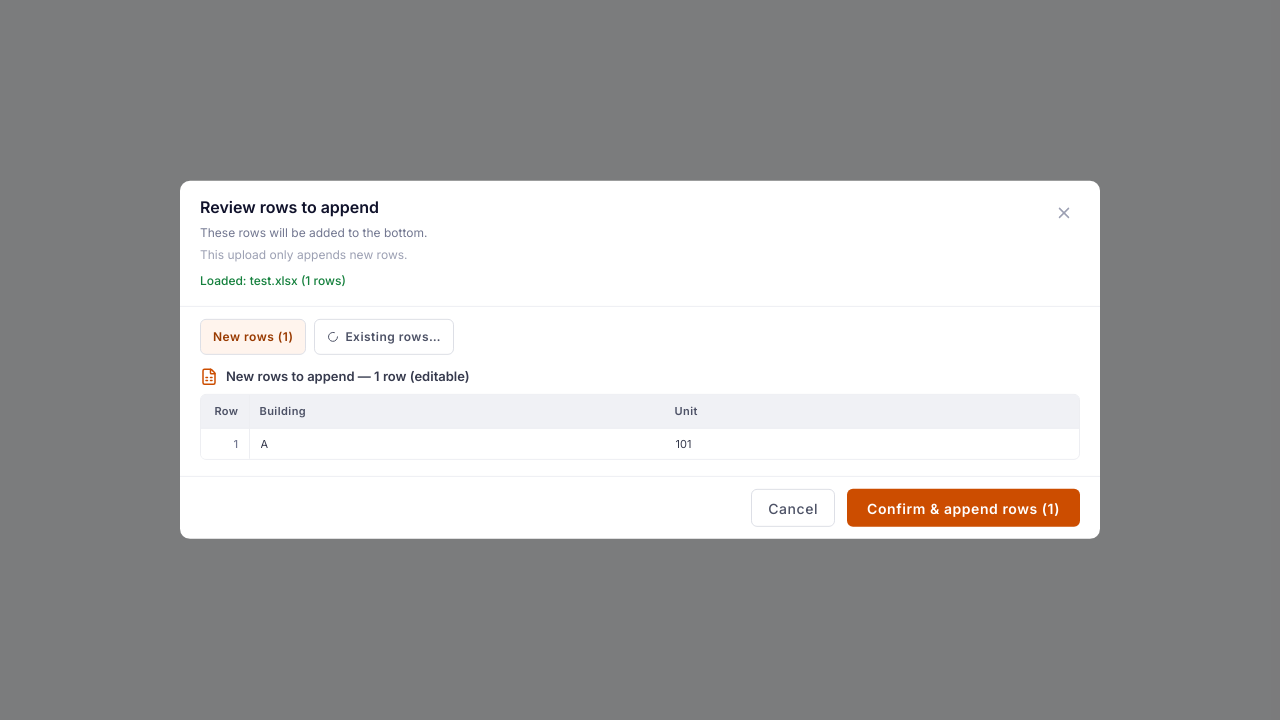
Test: LocationBuilderUploadPreviewModal › shows loading state on existing tab content when selected
Click the tab "Existing rows…" at (384, 337), box [314,319,454,355]
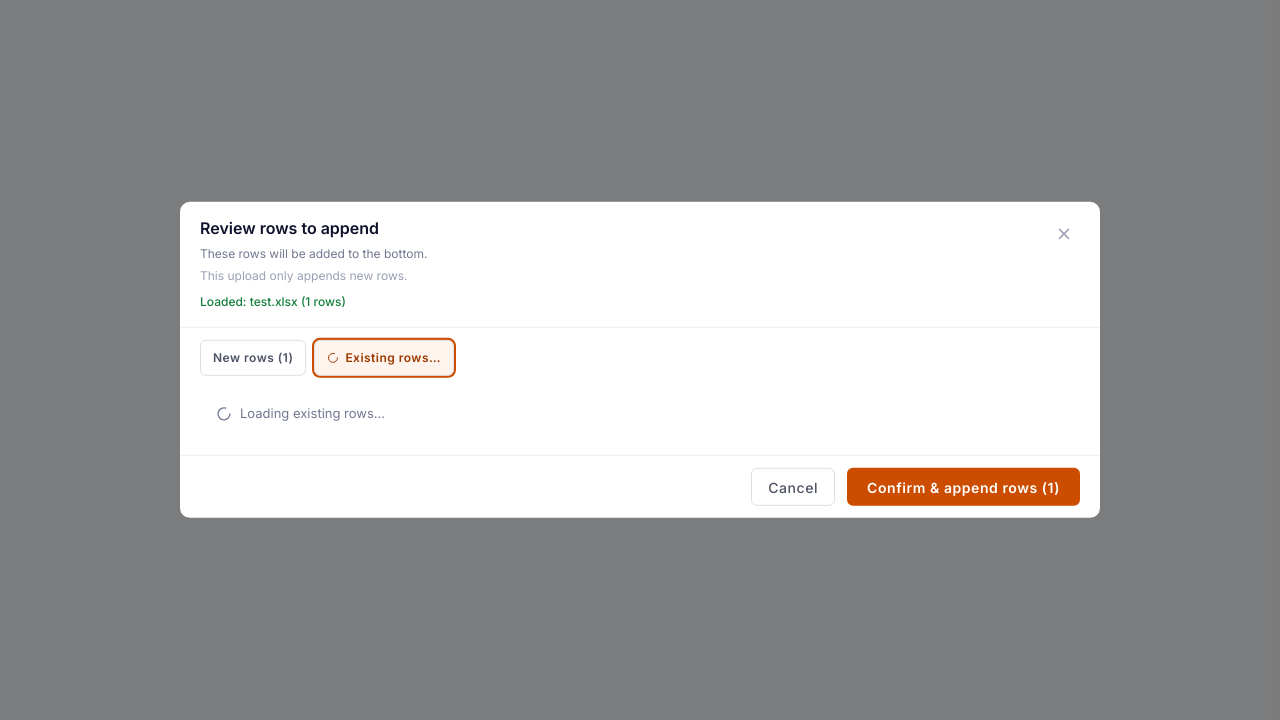
Check: the text "Loading existing rows…" is shown, box [216,405,385,421]
